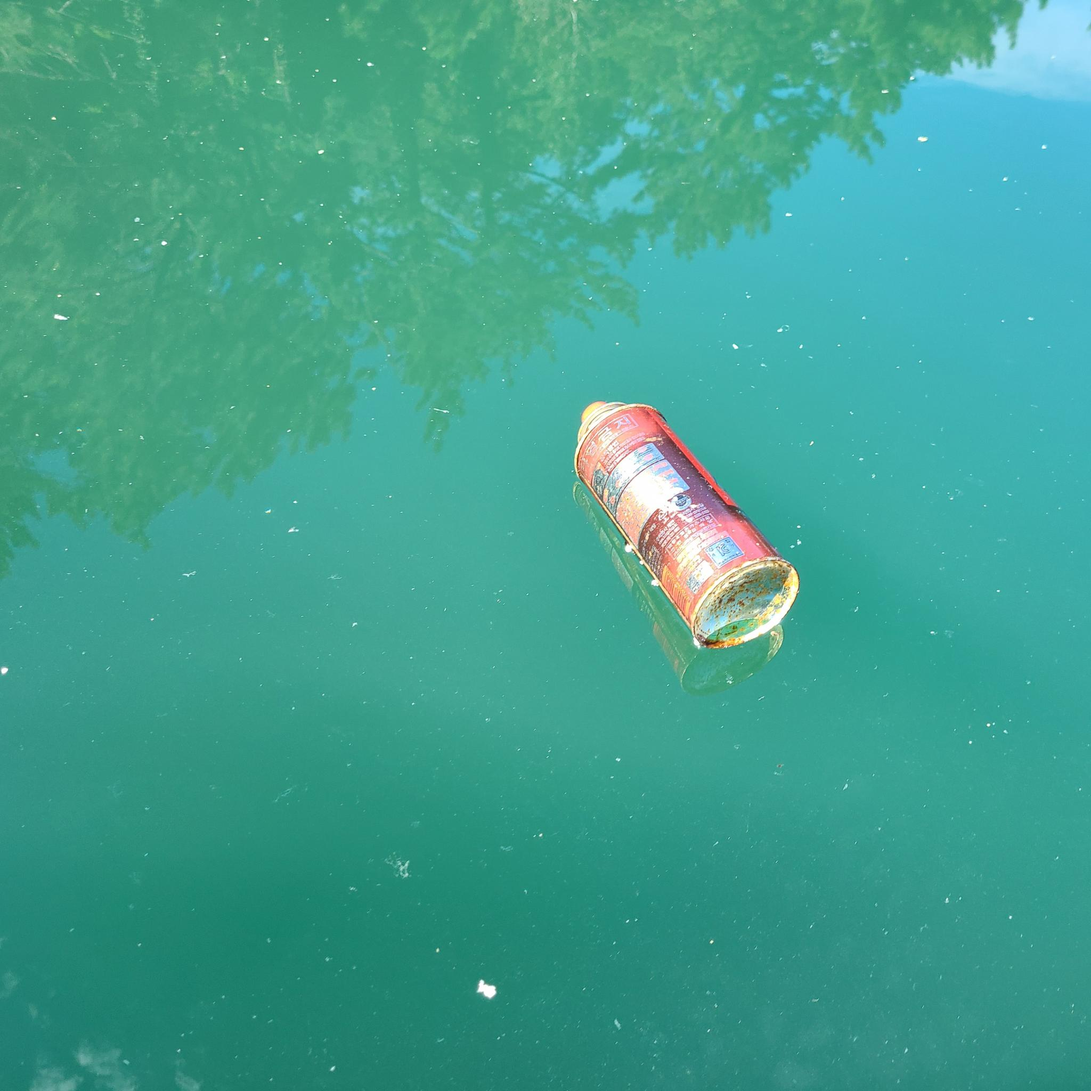sampah_terapung: (574, 402, 800, 650)
